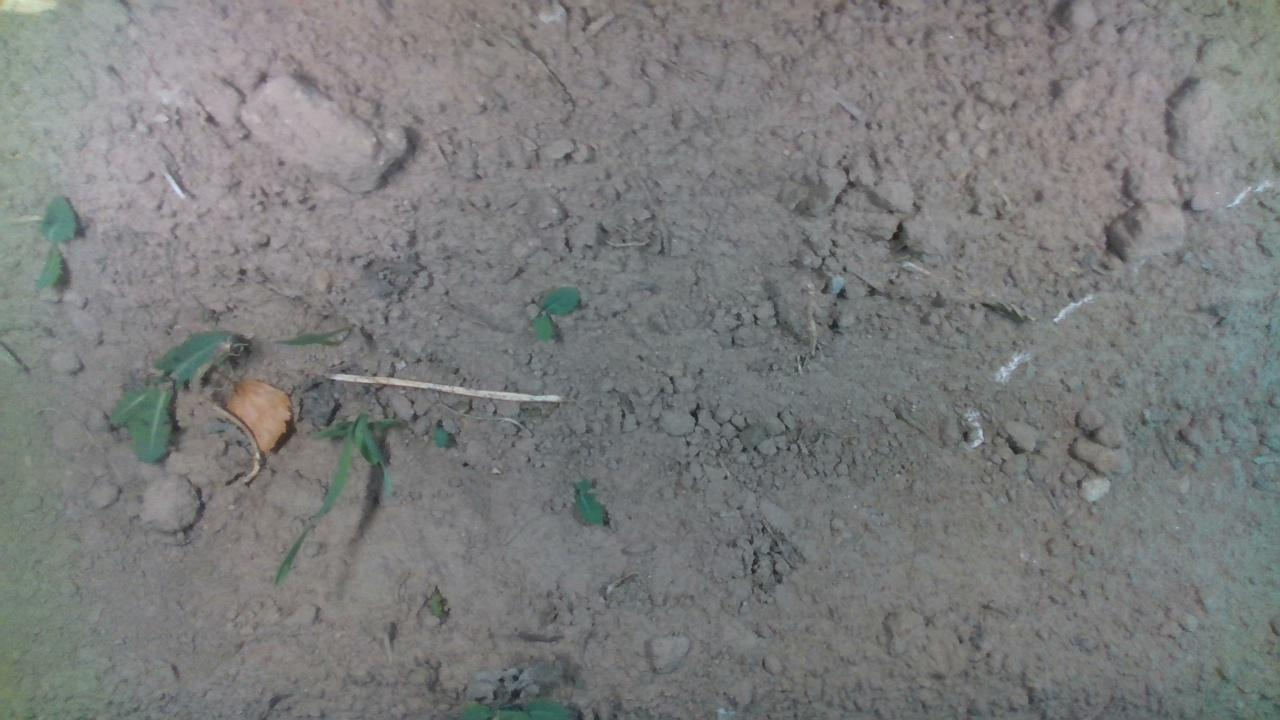weed: (528, 283, 581, 342)
